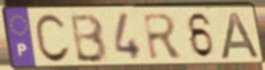4: (114, 11, 144, 65)
6: (186, 12, 215, 61)
A: (219, 11, 264, 61)
B: (69, 12, 110, 65)
C: (33, 12, 73, 66)
R: (140, 12, 186, 62)
